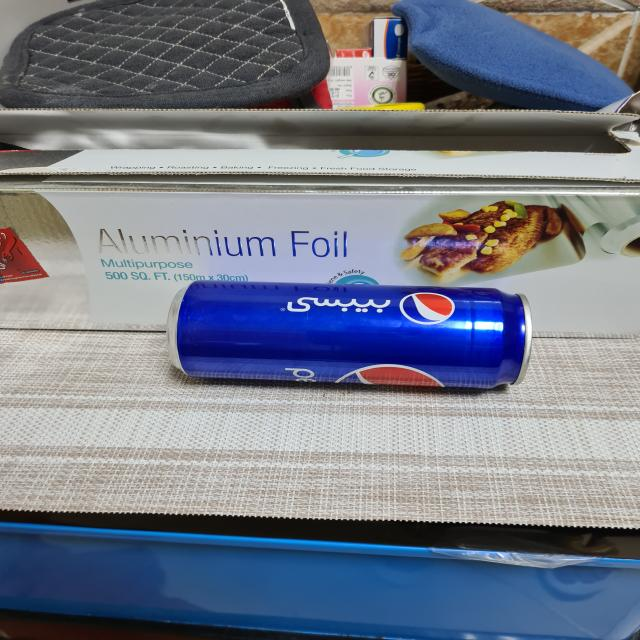non-organic waste: (153, 274, 540, 414)
